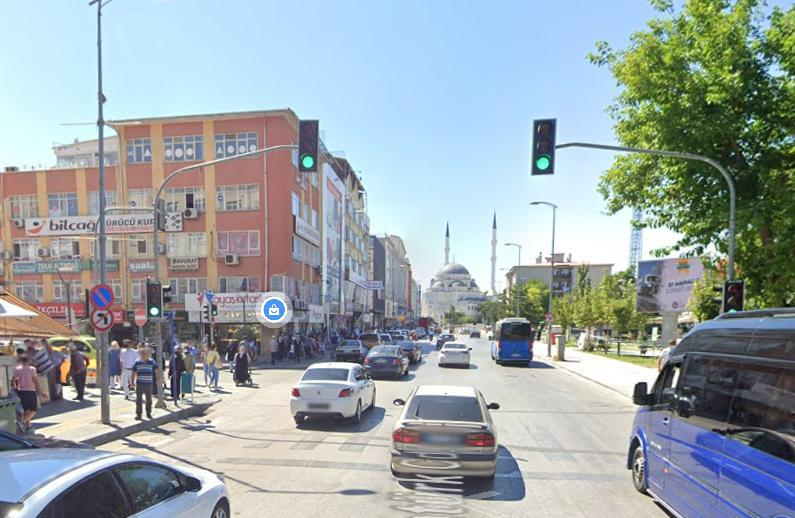greenlight: (529, 116, 562, 179), (295, 114, 321, 175), (143, 275, 166, 320)
leftturnsareforbidden: (91, 306, 116, 335)
